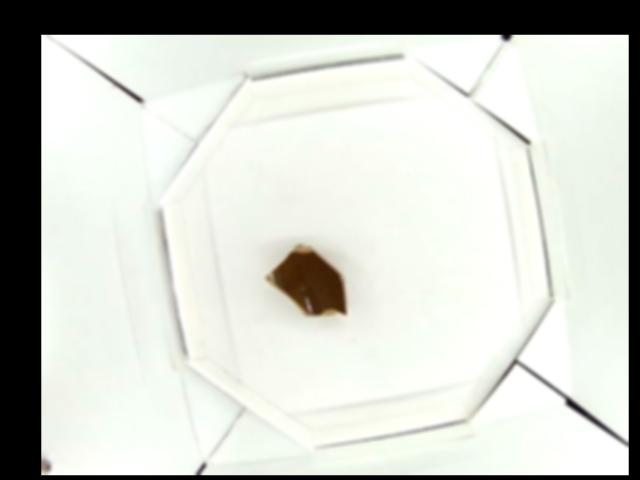China: (265, 242, 348, 319)
